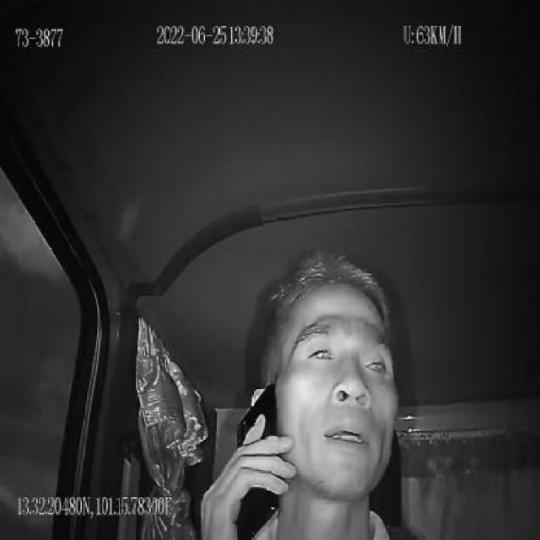phone: (236, 380, 279, 540)
